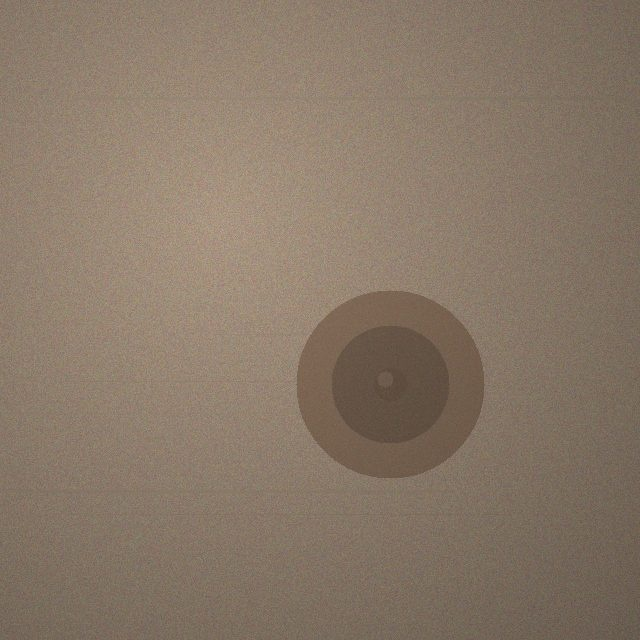good: (296, 290, 484, 478)
